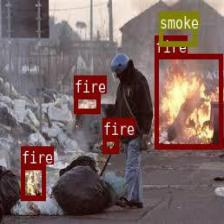fire: (154, 54, 222, 148), (20, 164, 44, 199), (74, 93, 100, 112), (102, 135, 118, 152)
smoke: (158, 11, 196, 45)
